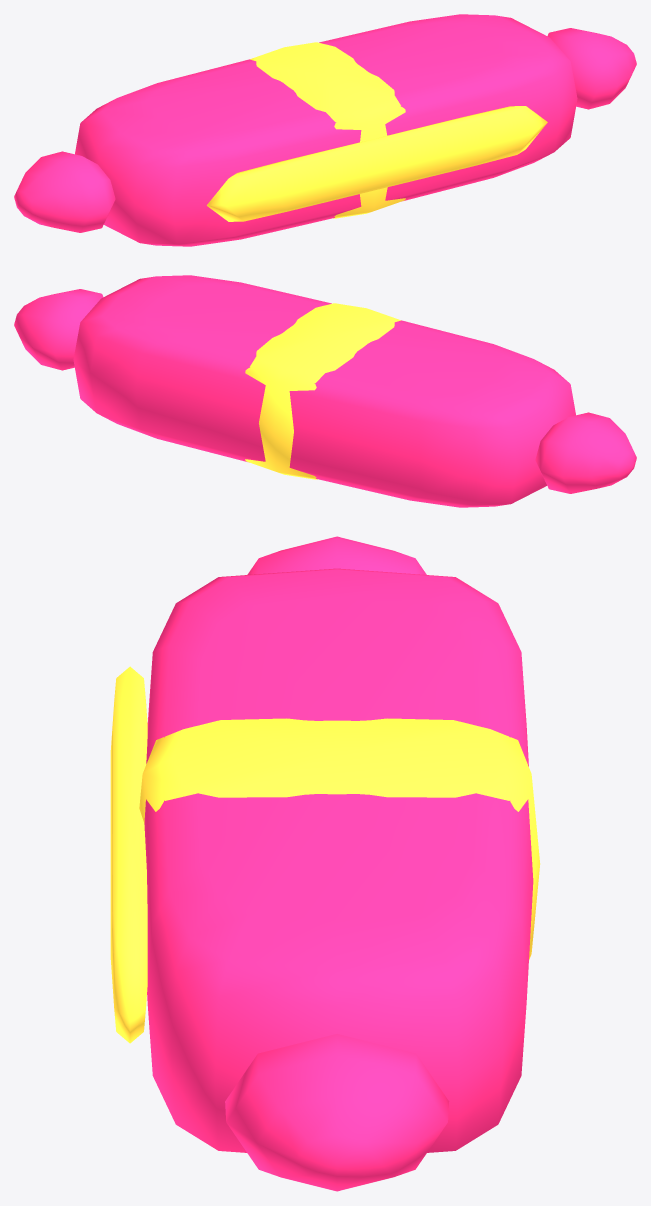
Rendered from candy.glb.
3 views of the same model, one above another, from view 1: azimuth 30°, elevation 25°; view 2: azimuth 150°, elevation 25°; view 3: azimuth 270°, elevation 25° (orthographic). The views are drawn at different scales.
Parts seen in each view (by area): view 1: item; view 2: item; view 3: item.
Boxes of the visible parts, bbox=[...] form: item: bbox=[14, 14, 636, 246]; item: bbox=[14, 275, 636, 507]; item: bbox=[110, 536, 540, 1191].
Size of the model in its own units: 0.72 by 0.124 by 0.2178.
Materials: 1 (1 with a texture image).
